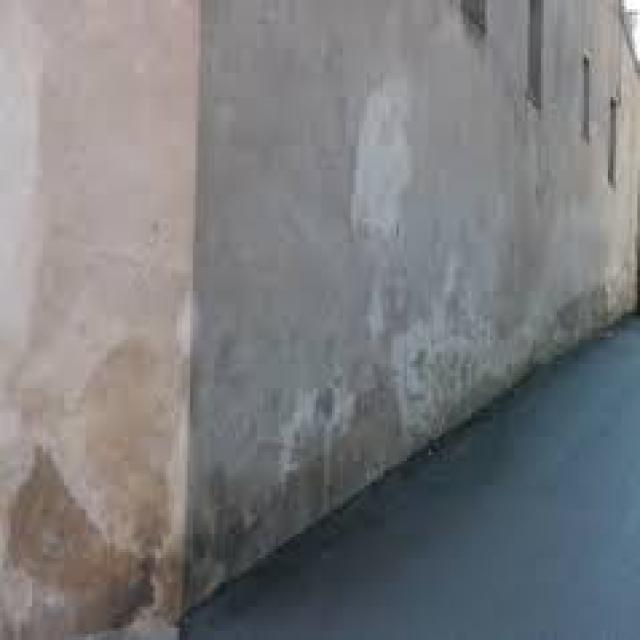dampness: (2, 265, 636, 639), (332, 77, 415, 250)
